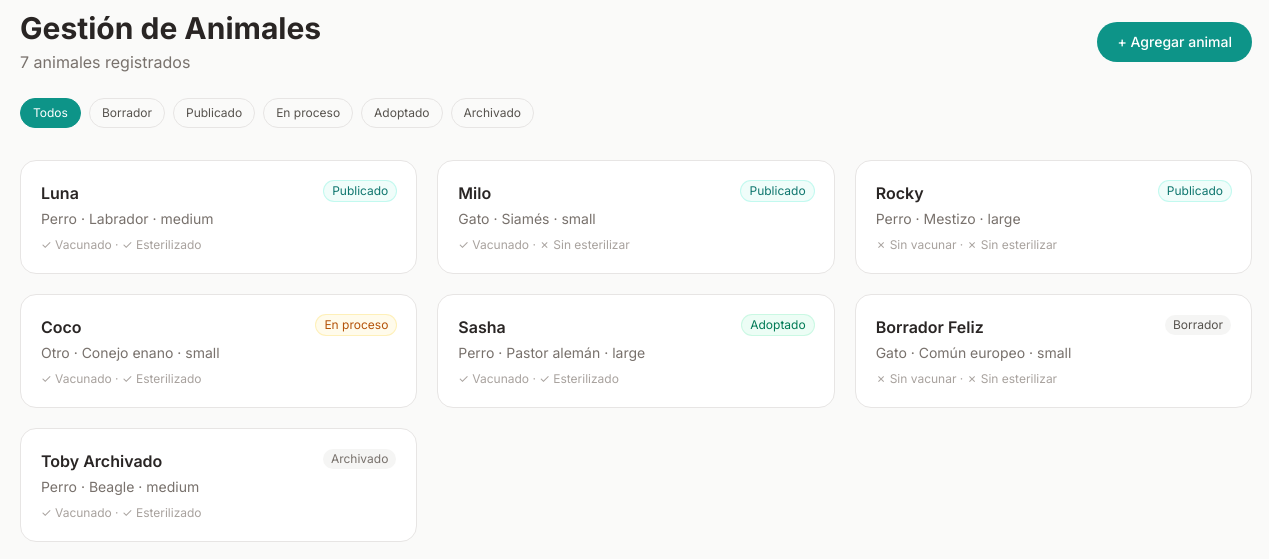
Scenario: ShelterAnimalsPage › shows all animals when Todos filter is clicked
This screenshot has width=1269, height=559.
Click the button "Borrador".
click(127, 113)  # box [89, 98, 165, 128]
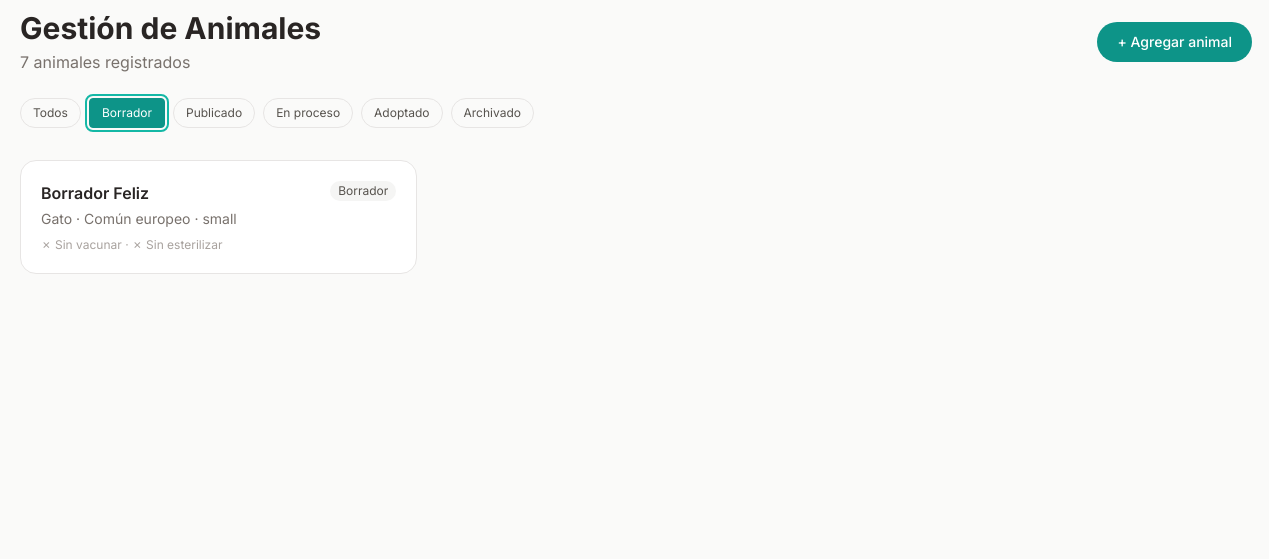
Click the button "Todos".
click(50, 113)  # box [20, 98, 81, 128]
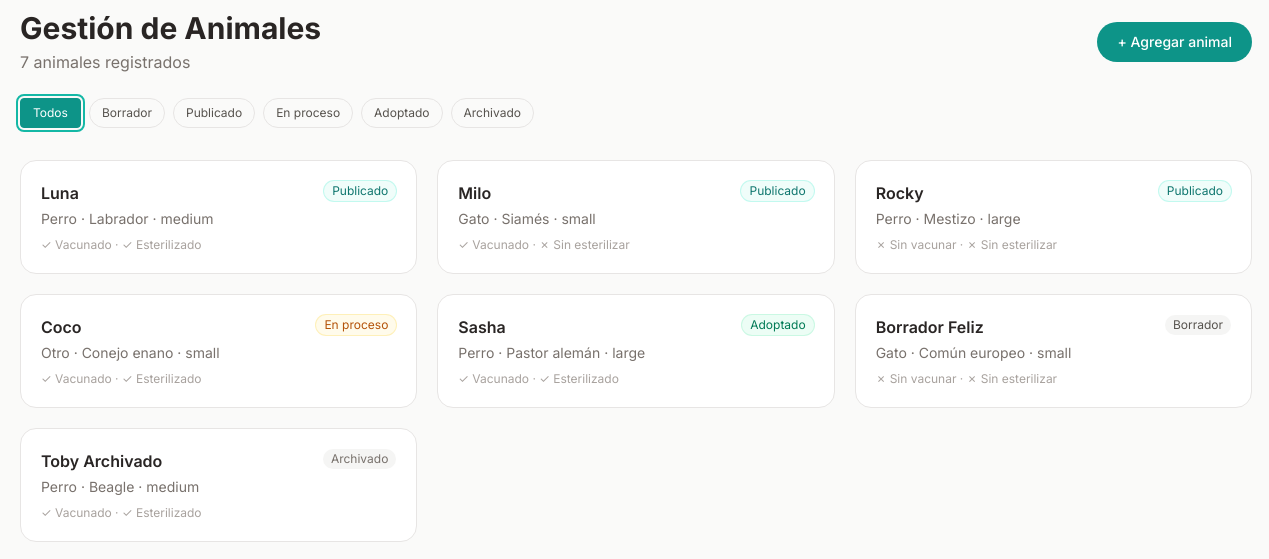
Check: the heading "Luna" is shown, box [41, 181, 79, 205]
